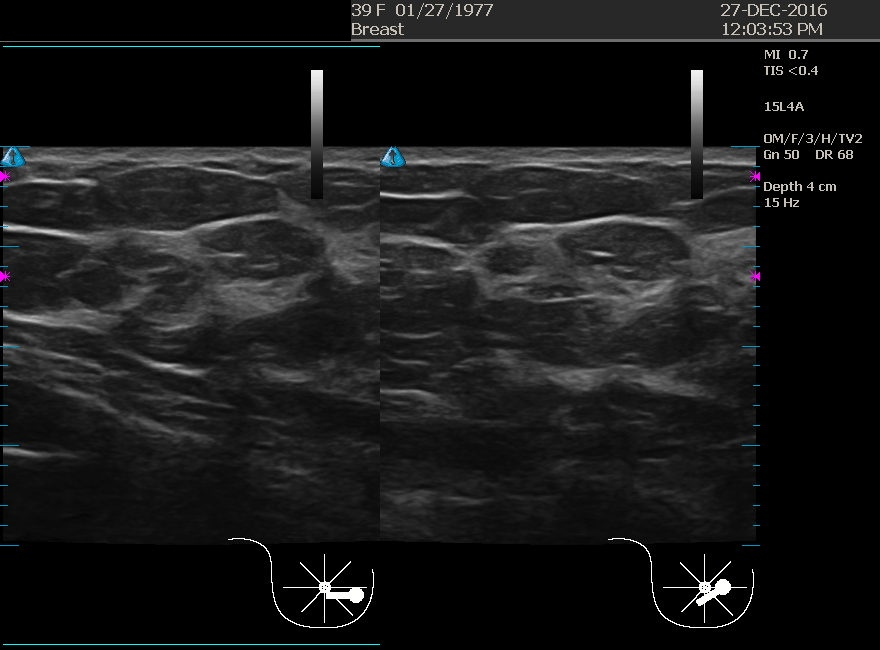Benign: (161, 210, 361, 410), (532, 204, 732, 404)
